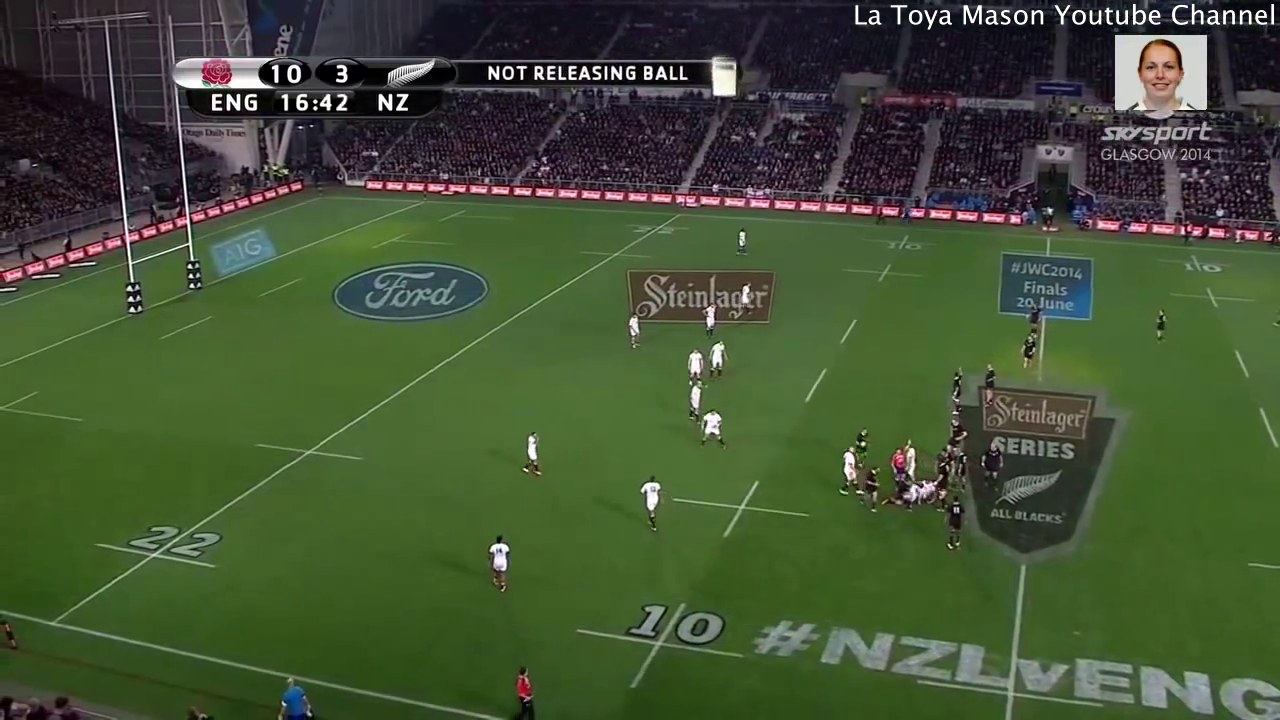10_metre: (572, 596, 751, 696), (666, 474, 818, 544), (1164, 283, 1263, 311), (1146, 247, 1238, 277), (839, 259, 929, 289), (864, 230, 940, 256)
player: (483, 532, 516, 600), (695, 401, 734, 453), (978, 435, 1009, 495), (939, 494, 968, 556), (637, 467, 665, 531), (517, 424, 547, 483), (856, 461, 885, 517), (703, 332, 731, 386), (834, 442, 861, 497), (884, 432, 909, 490), (620, 301, 646, 355), (697, 295, 725, 337), (975, 361, 999, 410), (931, 449, 952, 504), (945, 364, 968, 414), (1149, 306, 1174, 347), (734, 273, 757, 317), (1017, 333, 1040, 377), (851, 424, 874, 468), (677, 338, 705, 374), (952, 447, 973, 493), (688, 376, 708, 421), (1023, 300, 1045, 340), (730, 222, 751, 261), (946, 415, 970, 447), (903, 439, 918, 480)
post: (100, 7, 209, 322)
ruck: (867, 471, 968, 517)
